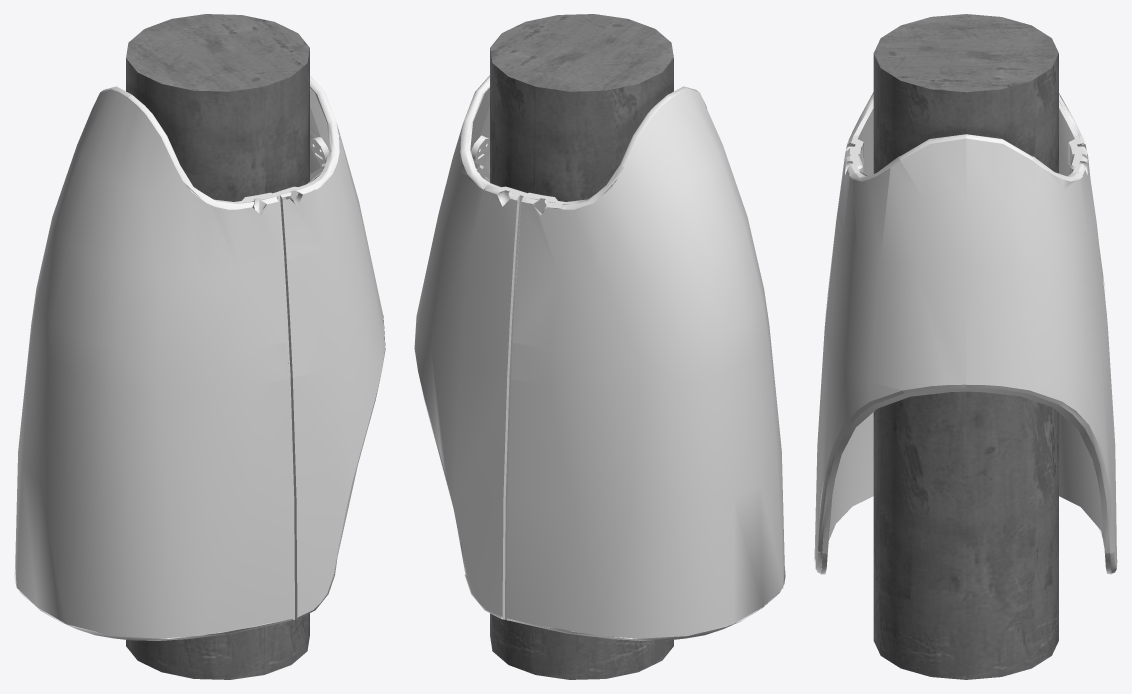
The model's file is icub_l_forearm.dae.
3 views of the same model, side by side, from view 1: azimuth 30°, elevation 25°; view 2: azimuth 150°, elevation 25°; view 3: azimuth 270°, elevation 25° (orthographic).
Parts seen in each view (by area): view 1: l_forearm_cyl_mesh; view 2: l_forearm_cyl_mesh; view 3: l_forearm_cyl_mesh.
Part boxes in pixels (<box>): l_forearm_cyl_mesh: <box>14,14,385,679</box>; l_forearm_cyl_mesh: <box>414,14,785,679</box>; l_forearm_cyl_mesh: <box>814,14,1117,679</box>.
Size of the model in its own units: 0.0804 by 0.0654 by 0.14.
1 material, 1 textured.
